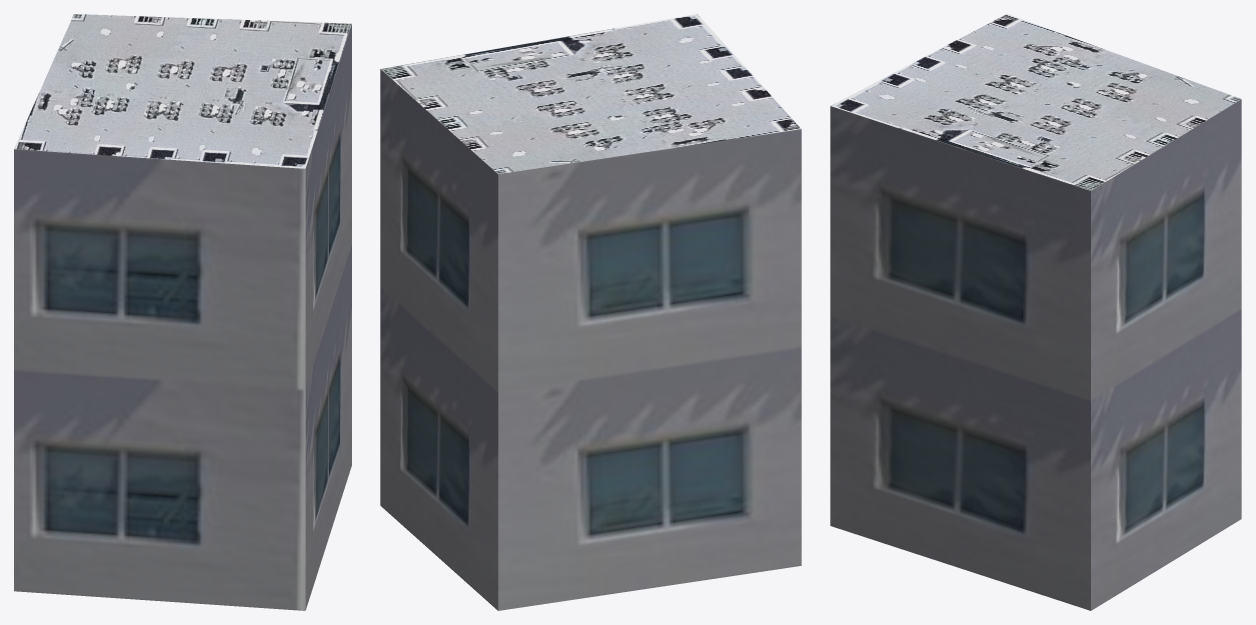
File: ResTex__1116.fbx
3 views of the same model, side by side, from view 1: azimuth 30°, elevation 25°; view 2: azimuth 150°, elevation 25°; view 3: azimuth 270°, elevation 25° (orthographic). The views are drawn at different scales.
Parts seen in each view (by area): view 1: CityEngineMaterial_10_m, CityEngineMaterial_2_m; view 2: CityEngineMaterial_10_m, CityEngineMaterial_2_m; view 3: CityEngineMaterial_10_m, CityEngineMaterial_2_m.
Part boxes in pixels (box(x1,y1,x2,y2)): CityEngineMaterial_10_m: box(14, 24, 351, 610); CityEngineMaterial_2_m: box(14, 14, 351, 168); CityEngineMaterial_10_m: box(380, 69, 801, 610); CityEngineMaterial_2_m: box(381, 14, 800, 174); CityEngineMaterial_10_m: box(830, 99, 1241, 610); CityEngineMaterial_2_m: box(831, 14, 1241, 190).
Size of the model in its own units: 5.43 by 6 by 5.33.
Materials: 2 (2 with a texture image).
